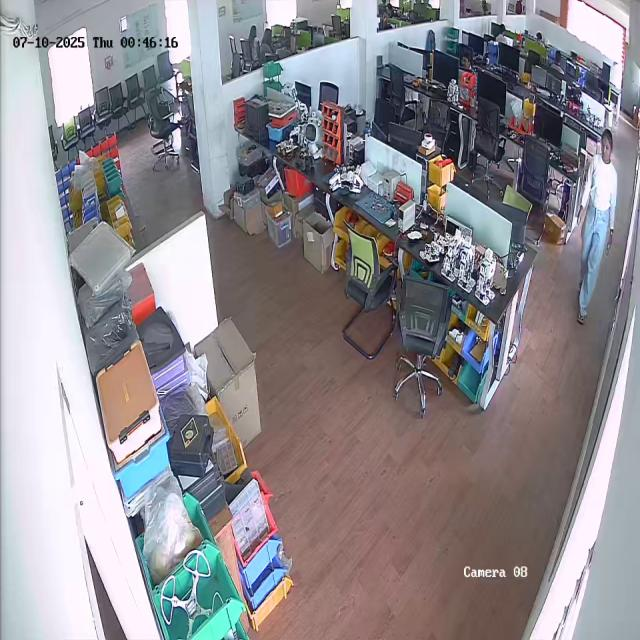person: (570, 129, 618, 327)
